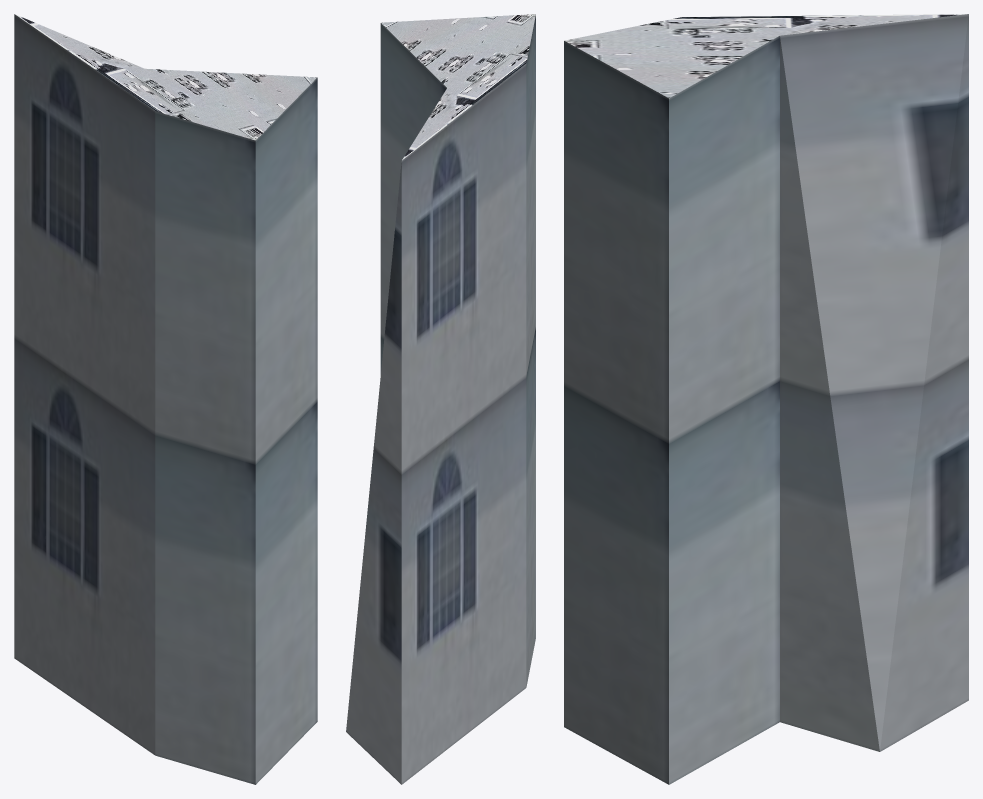
Rendered from ResTex__4999.fbx.
3 views of the same model, side by side, from view 1: azimuth 30°, elevation 25°; view 2: azimuth 150°, elevation 25°; view 3: azimuth 270°, elevation 25° (orthographic). The views are drawn at different scales.
Parts seen in each view (by area): view 1: CityEngineMaterial_17_m, CityEngineMaterial_m; view 2: CityEngineMaterial_17_m, CityEngineMaterial_m; view 3: CityEngineMaterial_17_m, CityEngineMaterial_m.
Boxes of the visible parts, x1,y1,x2,y2 form: CityEngineMaterial_17_m: (14,14,317,784); CityEngineMaterial_m: (15,14,316,140); CityEngineMaterial_17_m: (346,15,535,784); CityEngineMaterial_m: (381,14,535,160); CityEngineMaterial_17_m: (564,14,968,784); CityEngineMaterial_m: (564,14,966,98).
Size of the model in its own units: 1.58 by 6 by 3.21.
2 materials, 2 textured.
